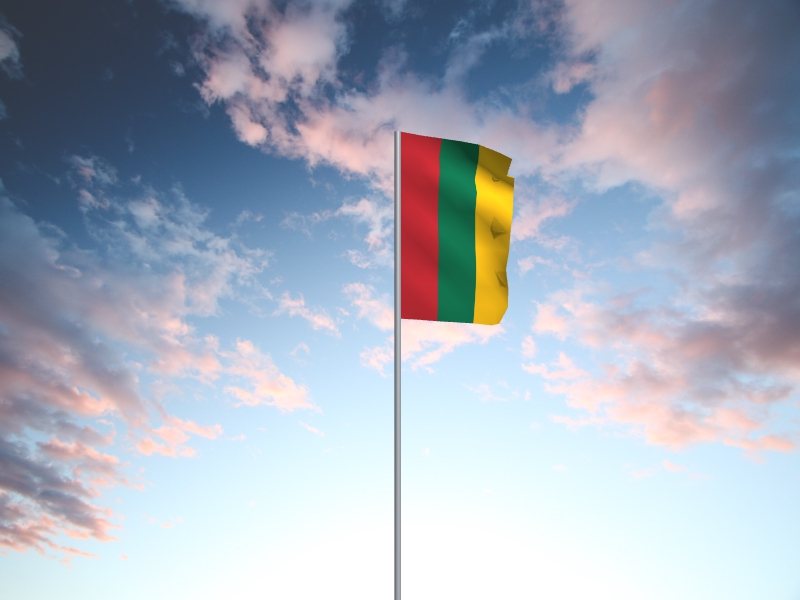lt: (402, 132, 516, 326)
